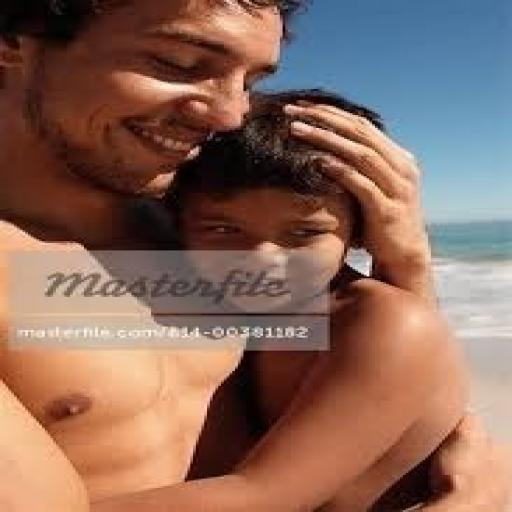hugging: (0, 0, 504, 510)
